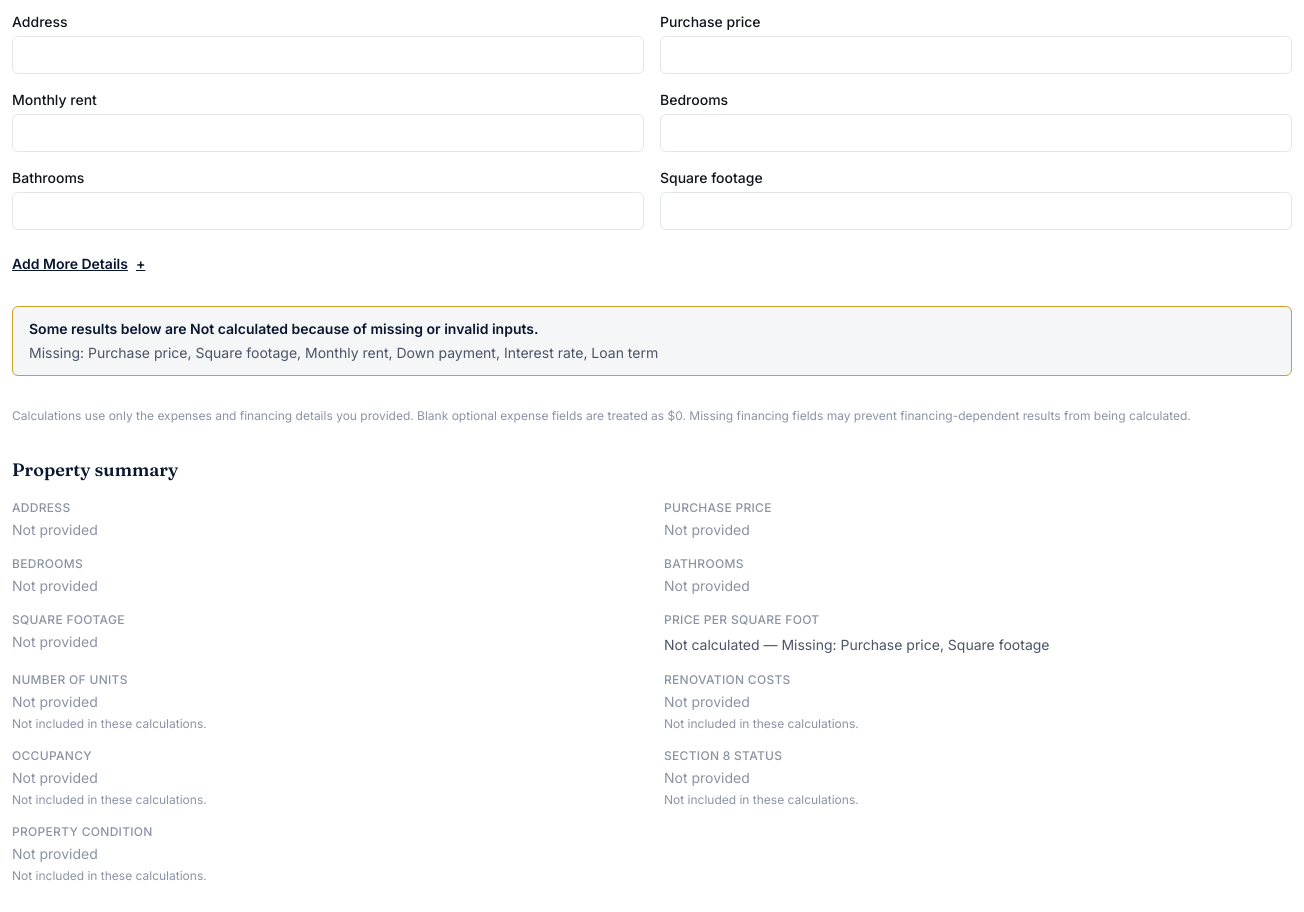
Test: ManualDealEntryForm — required fields › preserves an invalid entered value instead of clearing it
The width and height of the screenshot is (1304, 912).
Type "-1" into the number field labelled "Bedrooms".
click(976, 133); type("-1")  # box [660, 114, 1292, 152]
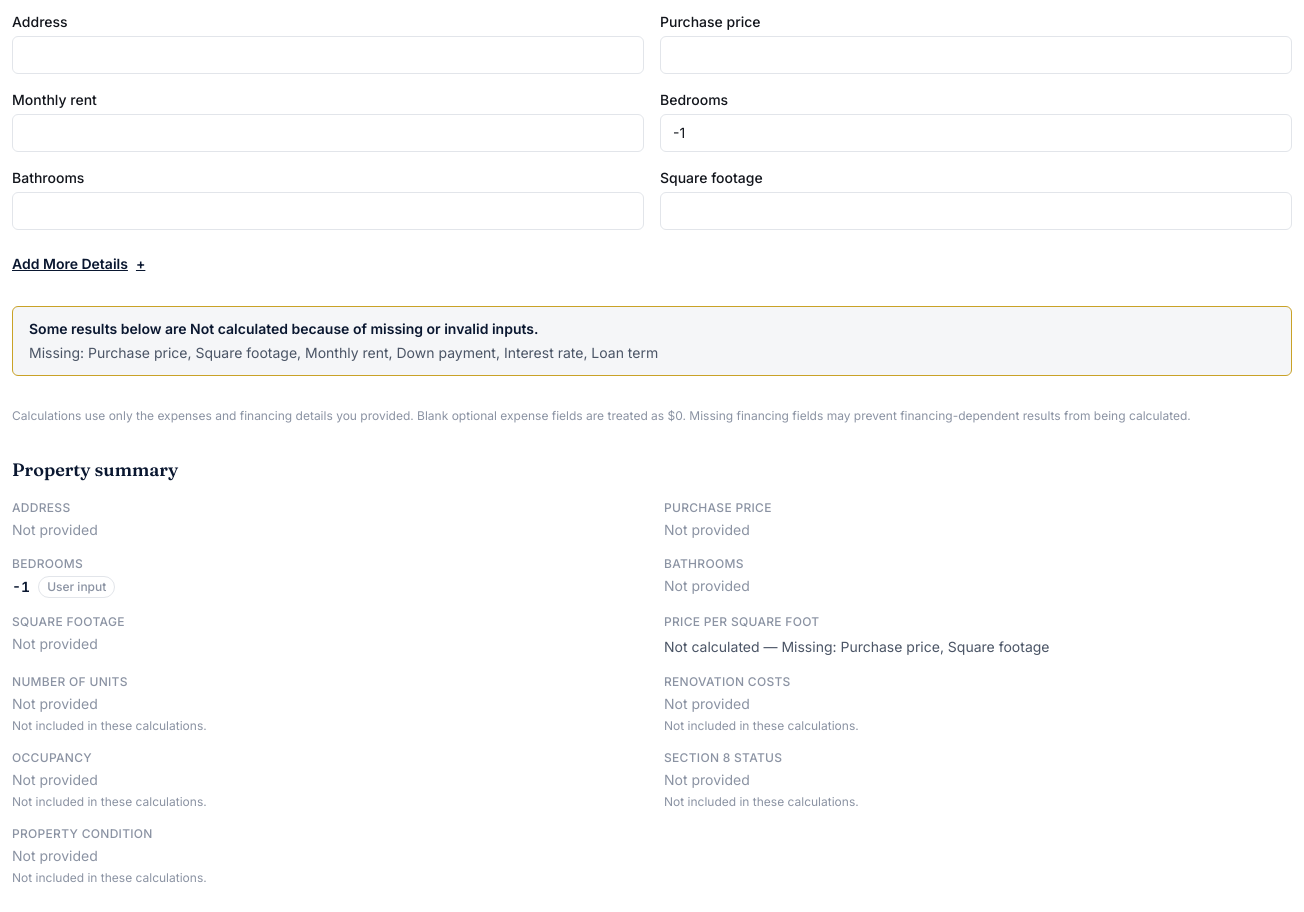
Leave the number field labelled "Bedrooms", box [660, 114, 1292, 152]
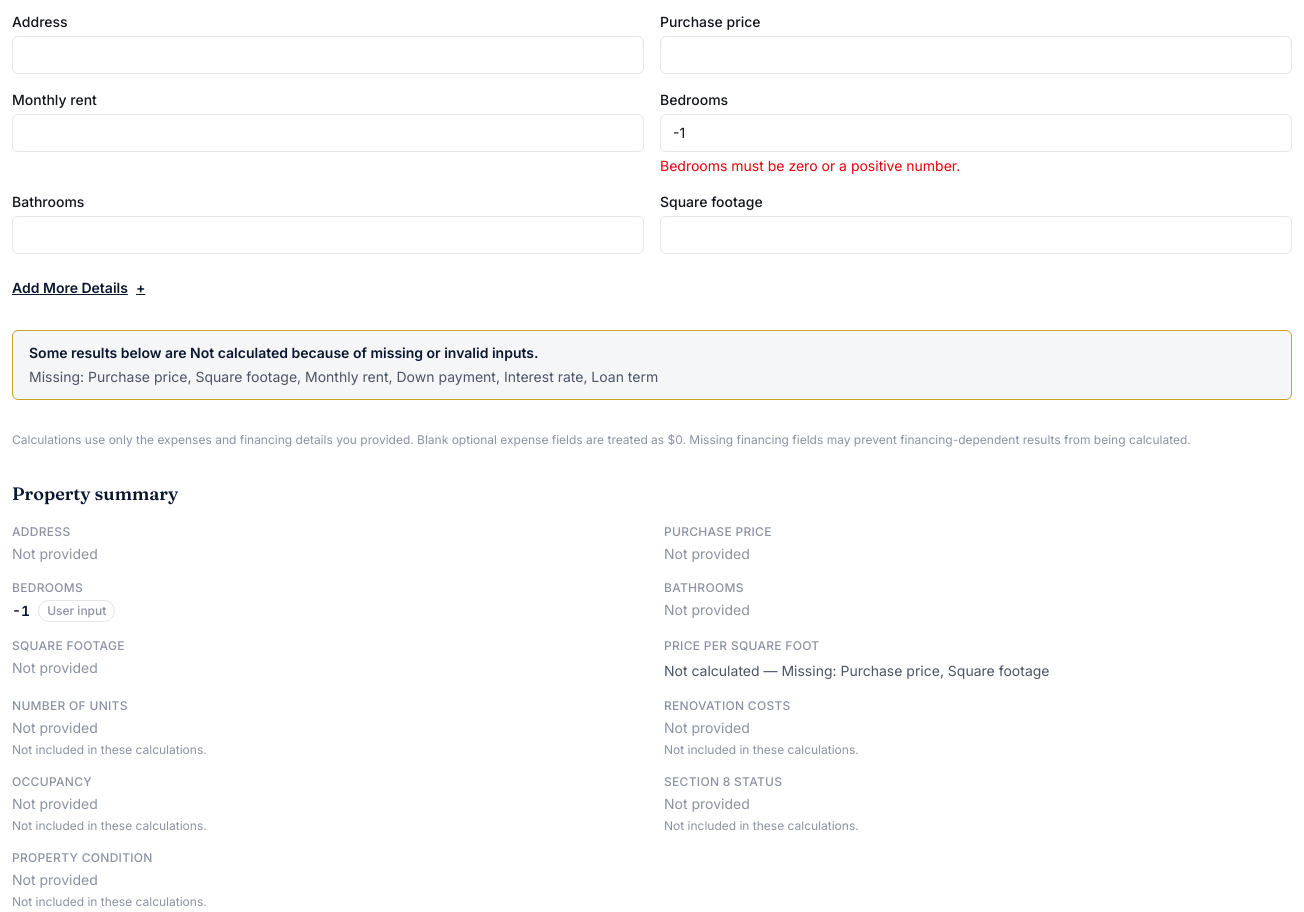
expect the text "Bedrooms must be zero or a positive number." is shown: met, box [660, 157, 960, 174]
